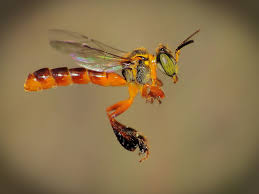jataí: (21, 25, 205, 167)
